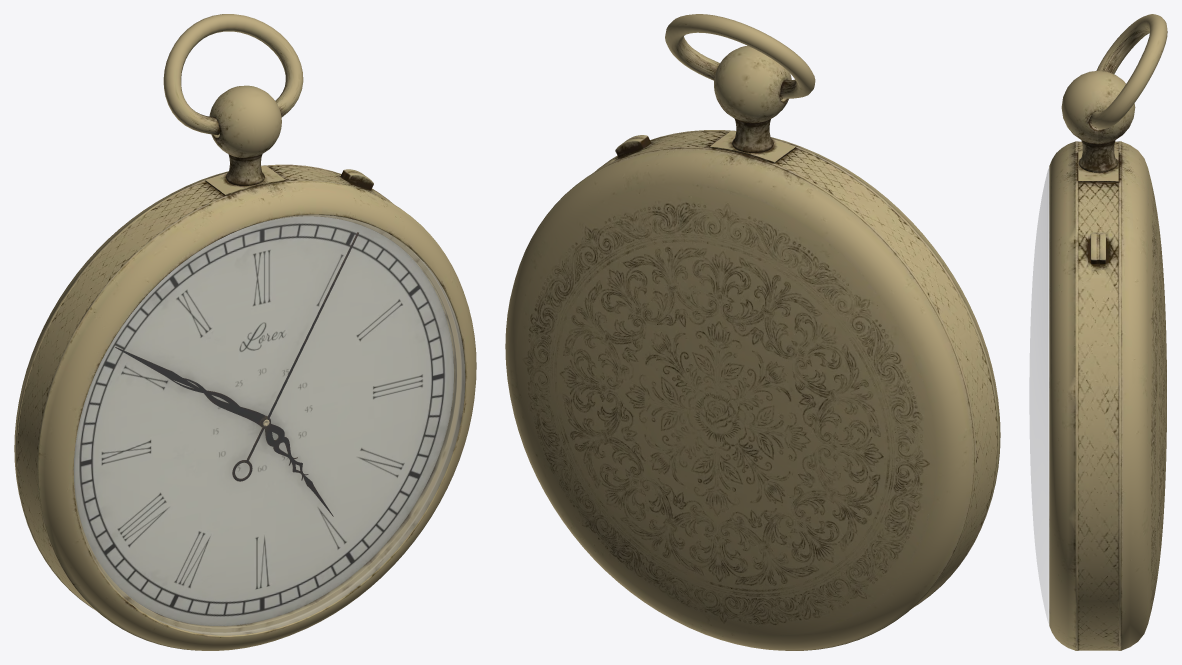
The model's file is pocket_watch.glb.
The picture shows the model from 3 angles, left to right: view 1: azimuth 30°, elevation 25°; view 2: azimuth 150°, elevation 25°; view 3: azimuth 270°, elevation 25°; orthographic projection. The views are drawn at different scales.
Parts seen in each view (by area): view 1: pocket_watch_button, pocket_watch_frame; view 2: pocket_watch_button; view 3: pocket_watch_button, pocket_watch_frame.
Boxes of the visible parts, x1,y1,x2,y2 form: pocket_watch_button: (14,14,476,650); pocket_watch_frame: (74,215,464,635); pocket_watch_button: (505,14,1000,650); pocket_watch_button: (1049,14,1167,650); pocket_watch_frame: (1029,169,1048,623).
Size of the model in its own units: 0.0577 by 0.0756 by 0.0156.
2 materials, 1 textured.
